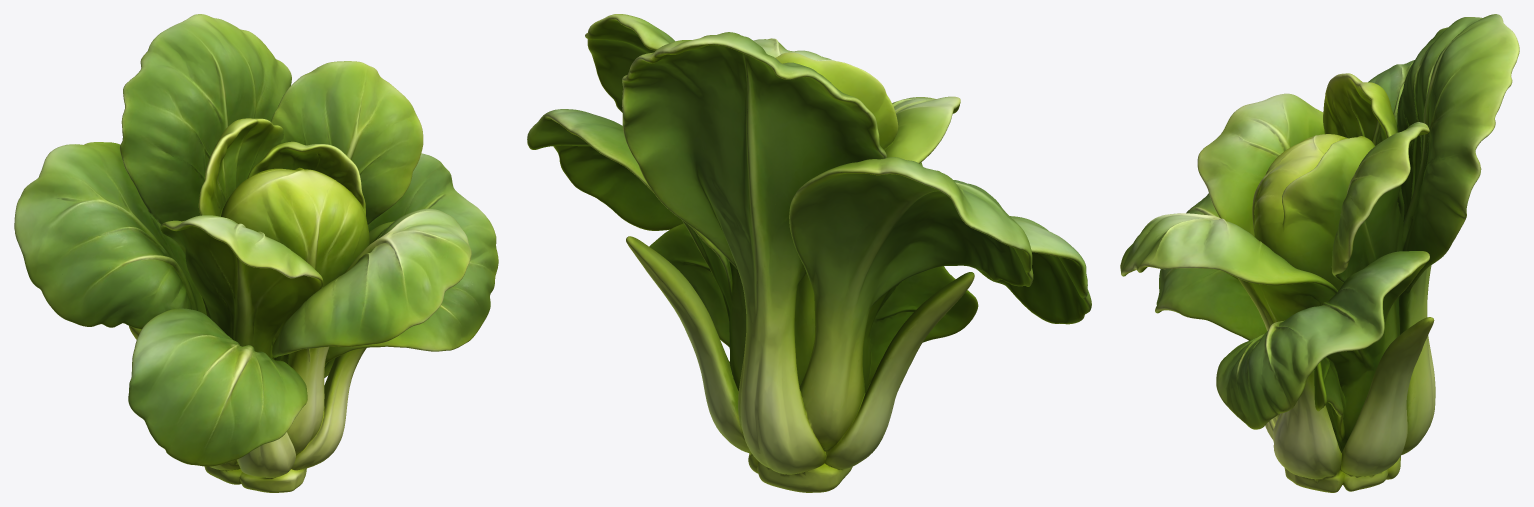
The model's file is bok-choy.glb.
3 views of the same model, side by side, from view 1: azimuth 30°, elevation 25°; view 2: azimuth 150°, elevation 25°; view 3: azimuth 270°, elevation 25° (orthographic). The views are drawn at different scales.
Parts seen in each view (by area): view 1: tripo_node_8285dc11-ecc7-4568-be98-09e61dcd1da3; view 2: tripo_node_8285dc11-ecc7-4568-be98-09e61dcd1da3; view 3: tripo_node_8285dc11-ecc7-4568-be98-09e61dcd1da3.
Part boxes in pixels (left/top/right/bottom): tripo_node_8285dc11-ecc7-4568-be98-09e61dcd1da3: left=14, top=14, right=498, bottom=492; tripo_node_8285dc11-ecc7-4568-be98-09e61dcd1da3: left=527, top=14, right=1091, bottom=492; tripo_node_8285dc11-ecc7-4568-be98-09e61dcd1da3: left=1120, top=14, right=1519, bottom=492.
Size of the model in its own units: 1 by 0.9005 by 0.7208.
Materials: 1 (1 with a texture image).
